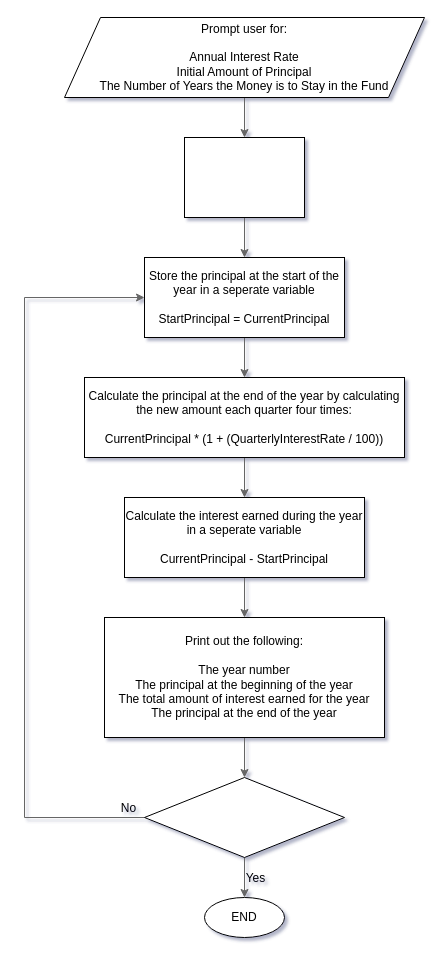
This 448x961 diagram has some shape labels left out. Here are the shapes that lost their labels. From the top down, the centre of each, then its label:
At pixel 244 177: "Calculate the Quarterly Rate from the Annual Rate: AnnualRate / 4".
At pixel 244 817: "Gone through all the years?".
